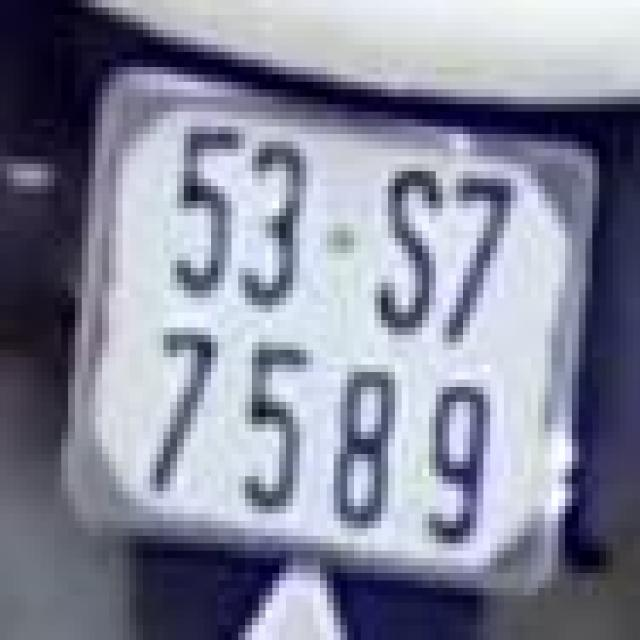3: (242, 130, 310, 316)
5: (235, 323, 316, 524), (167, 115, 242, 309)
7: (129, 312, 225, 514), (439, 156, 521, 365)
8: (327, 346, 402, 532)
9: (408, 368, 518, 570)
S: (361, 149, 442, 342)
